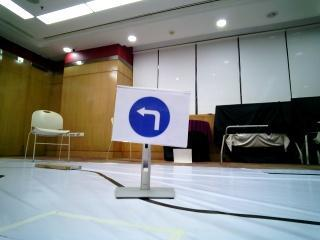left: (116, 90, 180, 139)
